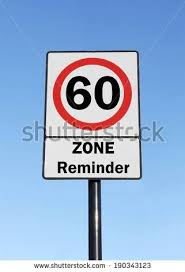Speed_limit_60km: (52, 57, 132, 130)
